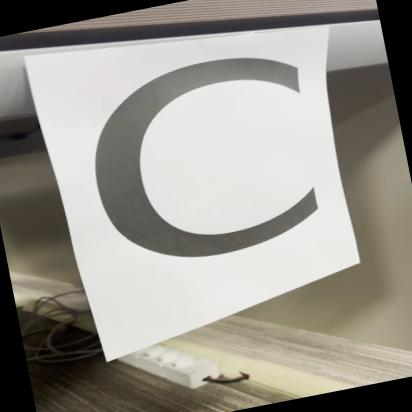seat: (46, 17, 364, 310)
